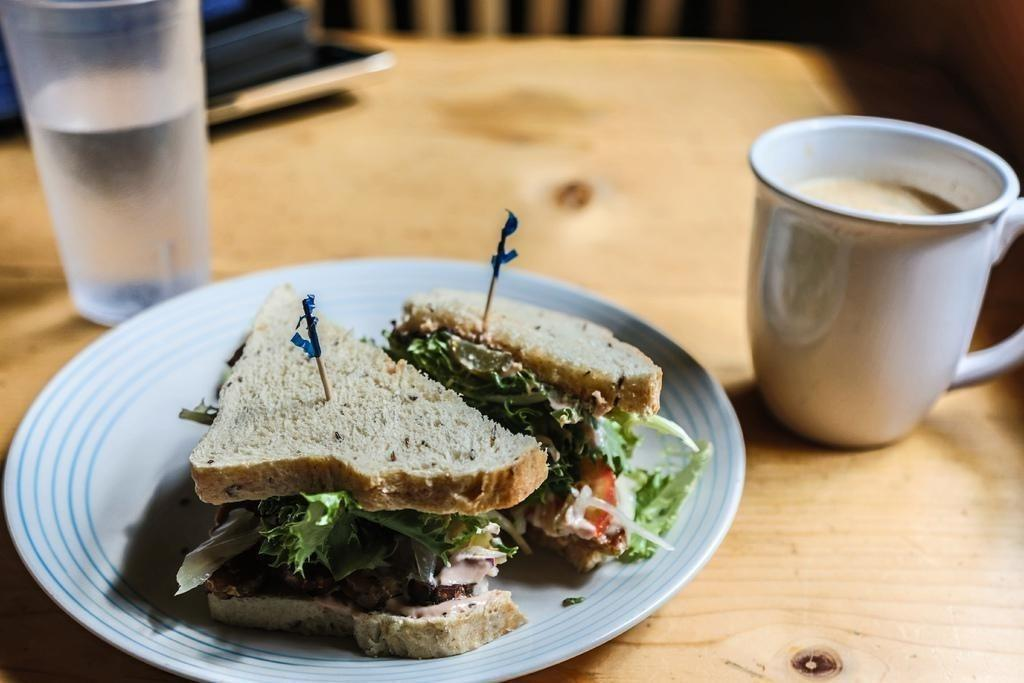cup-handle: (744, 115, 1023, 453)
glass-normal: (1, 1, 215, 324)
